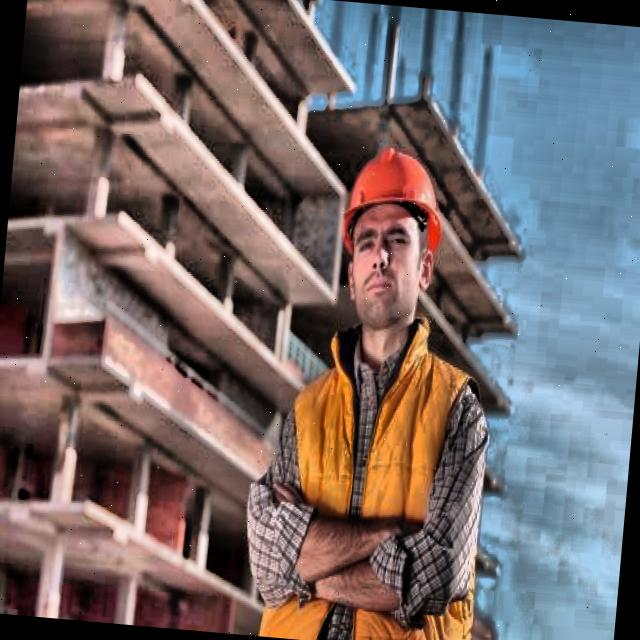helmet: (318, 125, 458, 348)
